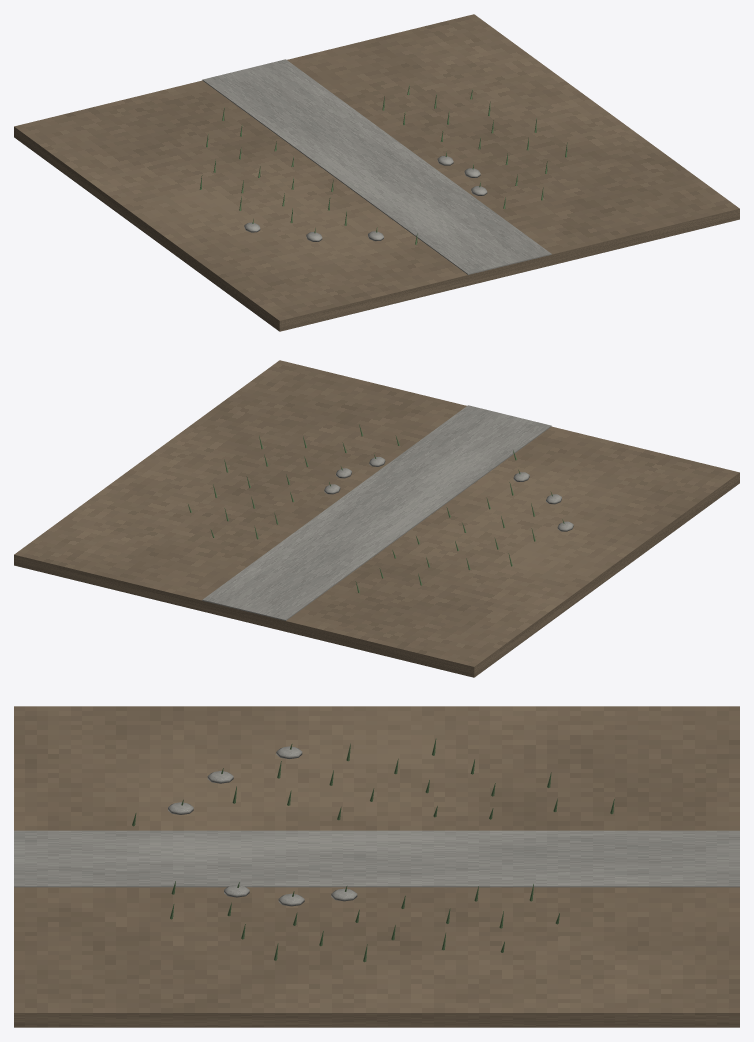
File: forest_patch01.glb
3 renders of one model, top to bottom at view 1: azimuth 30°, elevation 25°; view 2: azimuth 150°, elevation 25°; view 3: azimuth 270°, elevation 25°, orthographic. The views are drawn at different scales.
Parts seen in each view (by area): view 1: soil, path, grass, stone; view 2: soil, path, stone, grass; view 3: soil, path, stone, grass.
Part boxes in pixels (box(x1,y1,x2,y2)): soil: box(14, 14, 739, 331); path: box(202, 59, 551, 274); grass: box(199, 85, 567, 244); stone: box(244, 156, 487, 241); soil: box(14, 360, 739, 677); path: box(202, 405, 551, 620); stone: box(324, 457, 573, 531); grass: box(187, 424, 564, 592); soil: box(14, 706, 739, 1027); path: box(14, 830, 739, 887); stone: box(168, 746, 357, 906); grass: box(132, 738, 614, 962).
Size of the model in its own units: 8 by 0.4153 by 8.
Materials: 3 (3 with a texture image).
